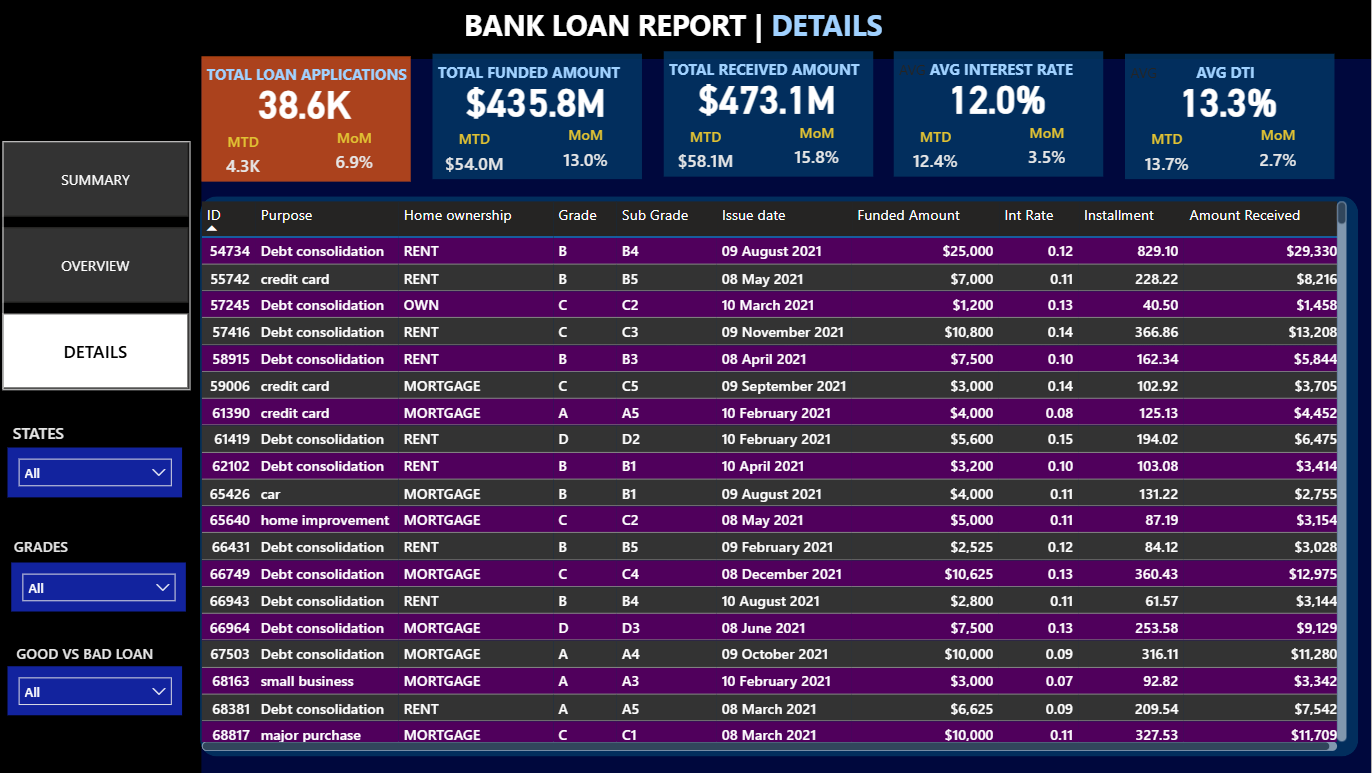

This screenshot's page, from the dashboard's own definition file:
{"tool":"powerbi","page":{"name":"DETAILS","canvas":[1280,720],"ordinal":2},"visuals":[{"type":"shape","box":[0,0,1280.3,54.9],"z":0},{"type":"shape","box":[621.5,47.7,194.9,116.6],"z":0,"group":"g3"},{"type":"shape","box":[836.3,47.7,194.9,116.6],"z":0,"group":"g4"},{"type":"shape","box":[406.7,50,194.9,116.6],"z":0,"group":"g2"},{"type":"shape","box":[1051.2,50,194.9,116.6],"z":0,"group":"g5"},{"type":"shape","box":[191.9,52.3,194.9,116.6],"z":0,"group":"g1"},{"type":"card","fields":{"Values":["Bank_Loan_Data.Total Amount Received"]},"box":[621.5,51.8,192.1,75.5],"z":1000,"group":"g3"},{"type":"card","fields":{"Values":["Bank_Loan_Data.Avg Intrest Rate"]},"box":[836.3,51.8,192.1,75.5],"z":1000,"group":"g4"},{"type":"card","fields":{"Values":["Bank_Loan_Data.Total Funded Amount"]},"box":[406.7,54.1,192.1,75.5],"z":1000,"group":"g2"},{"type":"card","fields":{"Values":["Bank_Loan_Data.Avg DTI"]},"box":[1051.2,54.1,192.1,75.5],"z":1000,"group":"g5"},{"type":"shape","box":[0,54.9,192,665.5],"z":1000},{"type":"card","fields":{"Values":["Bank_Loan_Data.TOTAL LOAN APPLICATIONS"]},"box":[191.9,56.4,192.1,75.5],"z":1000,"group":"g1"},{"type":"textbox","box":[621.5,50.4,205.8,38.4],"z":2000,"group":"g3"},{"type":"textbox","box":[836.3,50.4,205.8,38.4],"z":2000,"group":"g4"},{"type":"textbox","box":[406.7,52.7,205.8,38.4],"z":2000,"group":"g2"},{"type":"textbox","box":[1051.2,52.7,205.8,38.4],"z":2000,"group":"g5"},{"type":"textbox","box":[191.9,55,205.8,38.4],"z":2000,"group":"g1"},{"type":"shape","box":[191.2,182.5,1077.5,521.2],"z":2000},{"type":"card","title":"MTD","fields":{"Values":["Bank_Loan_Data.MTD Total Amount Received"]},"box":[621.5,117.7,78.2,50.8],"z":3000,"group":"g3"},{"type":"card","title":"MTD","fields":{"Values":["Bank_Loan_Data.MTD Avg Interest Rate"]},"box":[836.3,117.7,78.2,50.8],"z":3000,"group":"g4"},{"type":"card","title":"MTD","fields":{"Values":["Bank_Loan_Data.MTD Funded Applications"]},"box":[406.7,120,78.2,50.8],"z":3000,"group":"g2"},{"type":"card","title":"MTD","fields":{"Values":["Bank_Loan_Data.MTD Avg DTI"]},"box":[1051.2,120,78.2,50.8],"z":3000,"group":"g5"},{"type":"card","title":"MTD","fields":{"Values":["Bank_Loan_Data.MTD Loan Applications"]},"box":[191.9,122.3,78.2,50.8],"z":3000,"group":"g1"},{"type":"textbox","box":[11.2,387.5,72.5,37.5],"z":3000},{"type":"textbox","box":[430.9,0,517.3,52.1],"z":4000},{"type":"card","title":"MoM","fields":{"Values":["Bank_Loan_Data.MoM Total Amount Received"]},"box":[724.4,113.6,78.2,50.8],"z":4000,"group":"g3"},{"type":"card","title":"MoM","fields":{"Values":["Bank_Loan_Data.MoM Avg Interest Rate"]},"box":[939.2,113.6,78.2,50.8],"z":4000,"group":"g4"},{"type":"card","title":"MoM","fields":{"Values":["Bank_Loan_Data.MoM Total Funded Amount"]},"box":[509.6,115.9,78.2,50.8],"z":4000,"group":"g2"},{"type":"card","title":"MoM","fields":{"Values":["Bank_Loan_Data.MoM Avg DTI"]},"box":[1154.1,115.9,78.2,50.8],"z":4000,"group":"g5"},{"type":"card","title":"MoM","fields":{"Values":["Bank_Loan_Data.MoM Loan Applications"]},"box":[294.8,118.2,78.2,50.8],"z":4000,"group":"g1"},{"type":"group","id":"g1","title":"Group 1","box":[191.9,52.3,205.8,120.9],"z":5000},{"type":"group","id":"g2","title":"Group 1","box":[406.7,50,205.8,120.9],"z":6000},{"type":"group","id":"g3","title":"Group 1","box":[621.5,47.7,205.8,120.9],"z":7000},{"type":"group","id":"g4","title":"Group 1","box":[836.3,47.7,205.8,120.9],"z":8000},{"type":"group","id":"g5","title":"Group 1","box":[1051.2,50,205.8,120.9],"z":9000},{"type":"slicer","fields":{"Values":["Bank_Loan_Data.Address_State"]},"box":[12,416.2,162.5,46.2],"z":10000},{"type":"slicer","fields":{"Values":["Bank_Loan_Data.Grade"]},"box":[15.1,523.3,162.8,45.3],"z":11000},{"type":"textbox","box":[12.5,493.8,73.8,38.8],"z":12000},{"type":"slicer","fields":{"Values":["Bank_Loan_Data.GOOD VS BAD LOAN"]},"box":[11.1,619.4,162.8,45.3],"z":13000},{"type":"textbox","box":[15,593.8,158.8,38.8],"z":14000},{"type":"tableEx","fields":{"Values":["Bank_Loan_Data.ID","Bank_Loan_Data.purpose","Bank_Loan_Data.Home_ownership","Bank_Loan_Data.Grade","Bank_Loan_Data.sub_grade","Bank_Loan_Data.Issue_date","Bank_Loan_Data.Total Funded Amount","Sum(Bank_Loan_Data.int_rate)","Sum(Bank_Loan_Data.installment)","Bank_Loan_Data.Total Amount Received"]},"box":[186.2,182.5,1076.2,521.2],"z":17001},{"type":"pageNavigator","box":[7.5,131.2,173.8,231.2],"z":17002}]}

Visuals, with their boxes in screenshot pixels (x1, y1, x2, y2), scaled from the page's 1280x720 canvas onto the 1372x773 screenshot:
shape: rect(0, 0, 1371, 59)
shape: rect(666, 51, 875, 176)
shape: rect(896, 51, 1105, 176)
shape: rect(436, 54, 645, 179)
shape: rect(1127, 54, 1336, 179)
shape: rect(206, 56, 415, 181)
card - Bank_Loan_Data.Total Amount Received: rect(666, 56, 872, 137)
card - Bank_Loan_Data.Avg Intrest Rate: rect(896, 56, 1102, 137)
card - Bank_Loan_Data.Total Funded Amount: rect(436, 58, 642, 139)
card - Bank_Loan_Data.Avg DTI: rect(1127, 58, 1333, 139)
shape: rect(0, 59, 206, 772)
card - Bank_Loan_Data.TOTAL LOAN APPLICATIONS: rect(206, 61, 412, 142)
textbox: rect(666, 54, 887, 95)
textbox: rect(896, 54, 1117, 95)
textbox: rect(436, 57, 657, 98)
textbox: rect(1127, 57, 1347, 98)
textbox: rect(206, 59, 426, 100)
shape: rect(205, 196, 1360, 756)
"MTD" card: rect(666, 126, 750, 181)
"MTD" card: rect(896, 126, 980, 181)
"MTD" card: rect(436, 129, 520, 183)
"MTD" card: rect(1127, 129, 1211, 183)
"MTD" card: rect(206, 131, 290, 186)
textbox: rect(12, 416, 90, 456)
textbox: rect(462, 0, 1016, 56)
"MoM" card: rect(776, 122, 860, 177)
"MoM" card: rect(1007, 122, 1091, 177)
"MoM" card: rect(546, 124, 630, 179)
"MoM" card: rect(1237, 124, 1321, 179)
"MoM" card: rect(316, 127, 400, 181)
"Group 1" group: rect(206, 56, 426, 186)
"Group 1" group: rect(436, 54, 657, 183)
"Group 1" group: rect(666, 51, 887, 181)
"Group 1" group: rect(896, 51, 1117, 181)
"Group 1" group: rect(1127, 54, 1347, 183)
slicer - Bank_Loan_Data.Address_State: rect(13, 447, 187, 496)
slicer - Bank_Loan_Data.Grade: rect(16, 562, 191, 610)
textbox: rect(13, 530, 93, 572)
slicer - Bank_Loan_Data.GOOD VS BAD LOAN: rect(12, 665, 186, 714)
textbox: rect(16, 638, 186, 679)
tableEx - Bank_Loan_Data.ID x Bank_Loan_Data.purpose: rect(200, 196, 1353, 756)
pageNavigator: rect(8, 141, 194, 389)
